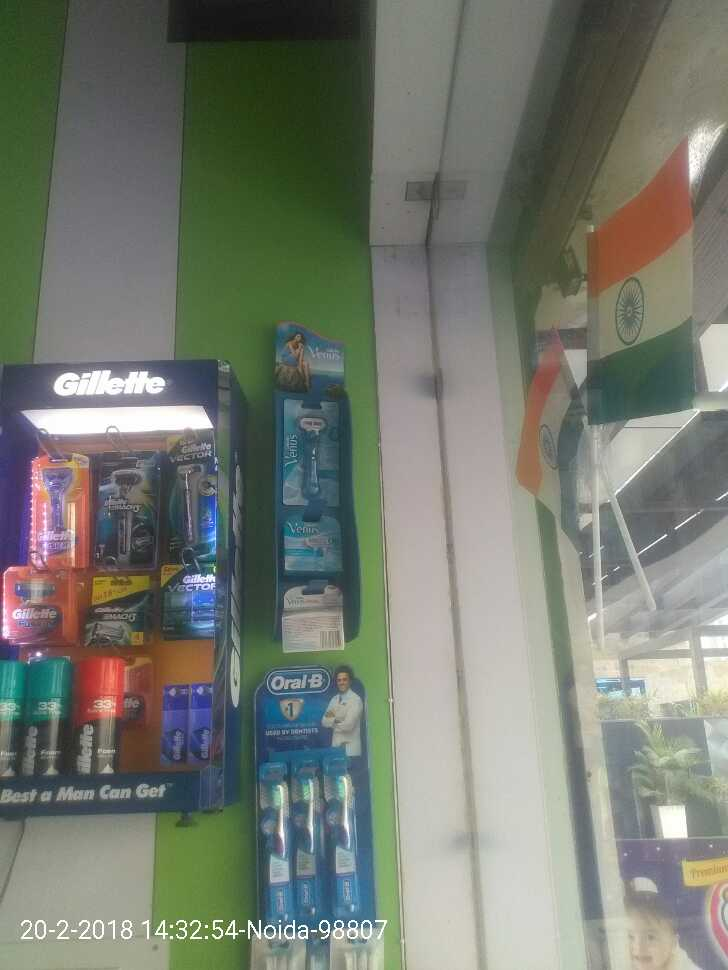beauty: (245, 760, 298, 923), (32, 447, 91, 573), (283, 388, 347, 503), (69, 653, 124, 779), (329, 747, 369, 919), (167, 443, 222, 563), (101, 450, 151, 565), (83, 571, 160, 640), (292, 754, 323, 925), (23, 659, 66, 781), (7, 568, 76, 634), (157, 562, 216, 634), (282, 518, 348, 578)
